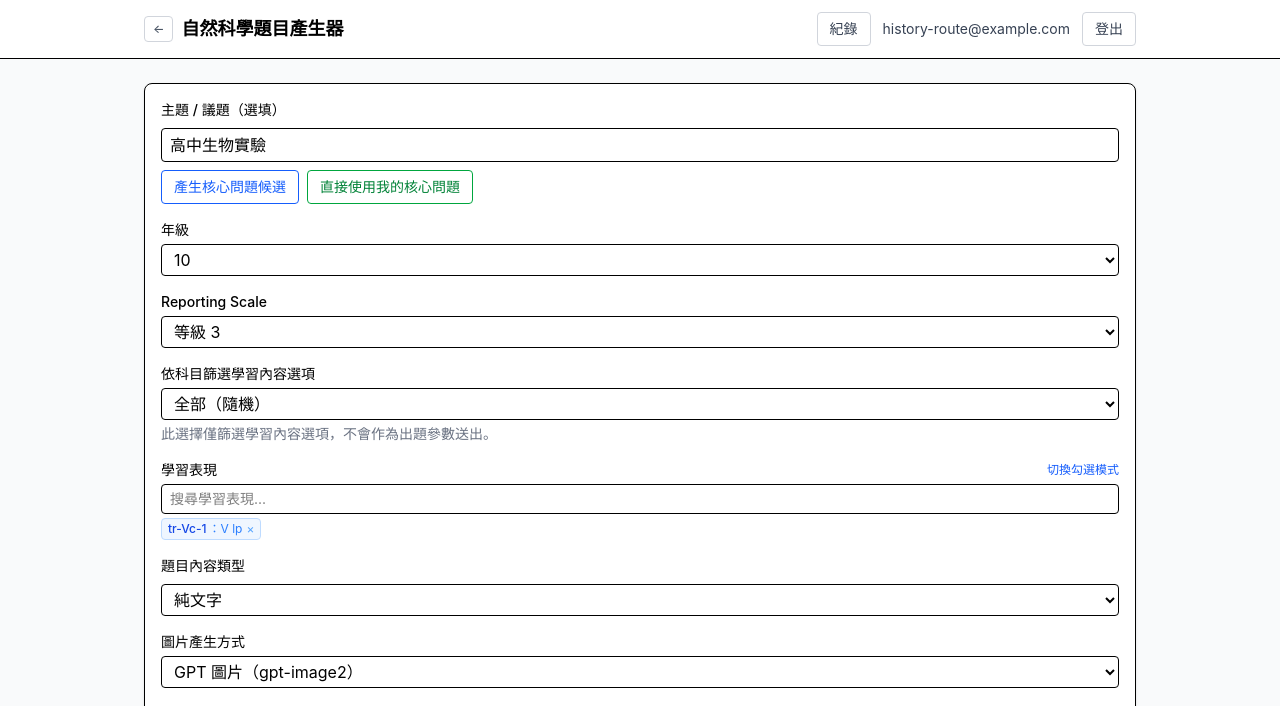
it: GeneratePage history prefill across learning stages › keeps 全域池 and 各小題配置 codes when the grade-less 第四 pool answers first
Expected: the dropdown labelled "年級" shows "10", x1=161 y1=244 x2=1119 y2=276
Type "-" into the field with placeholder "搜尋學習表現..." at x=640, y=499, box x1=161 y1=484 x2=1119 y2=514
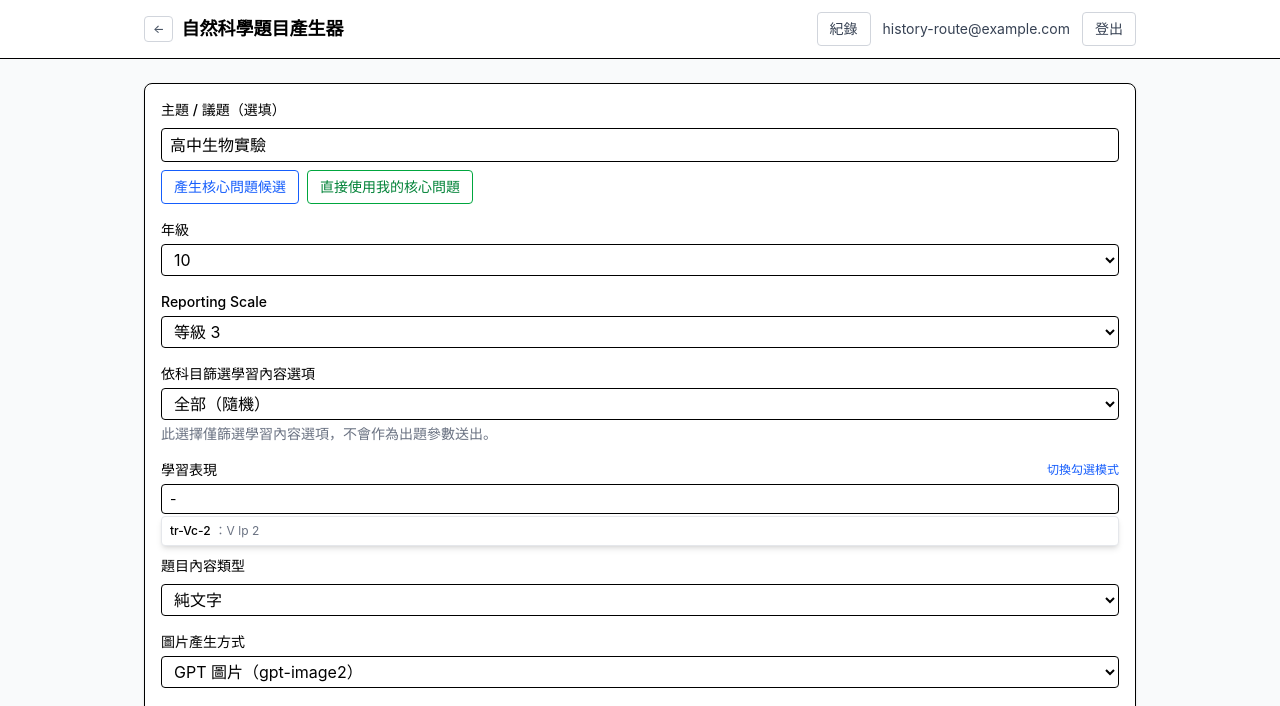
Expected: the button "tr-Vc-2：V lp 2" is shown, x1=162 y1=517 x2=1118 y2=545
